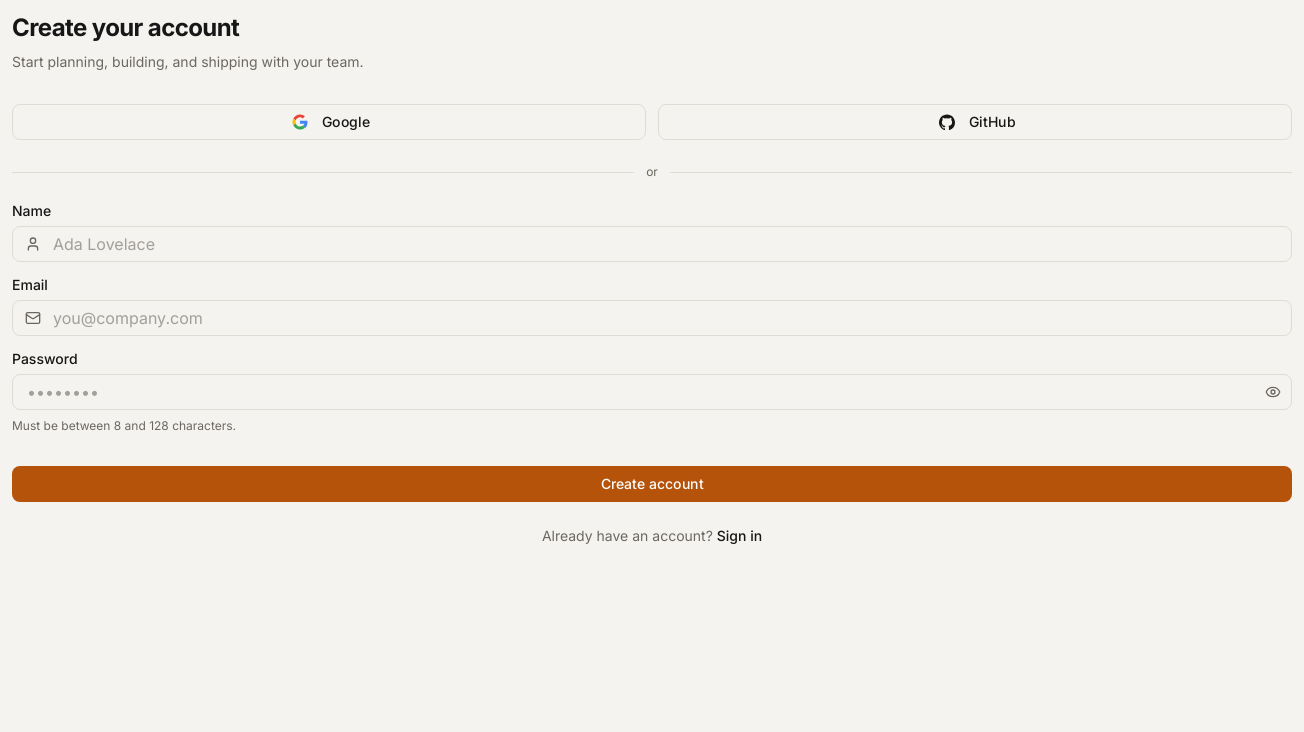
Test case: SignUpForm — user behaviour (isolated) › on success swaps to check-your-email variant with sent email and resend
Type "Ada" into the field labelled "Name" at point(652, 244), box [13, 227, 1291, 261]
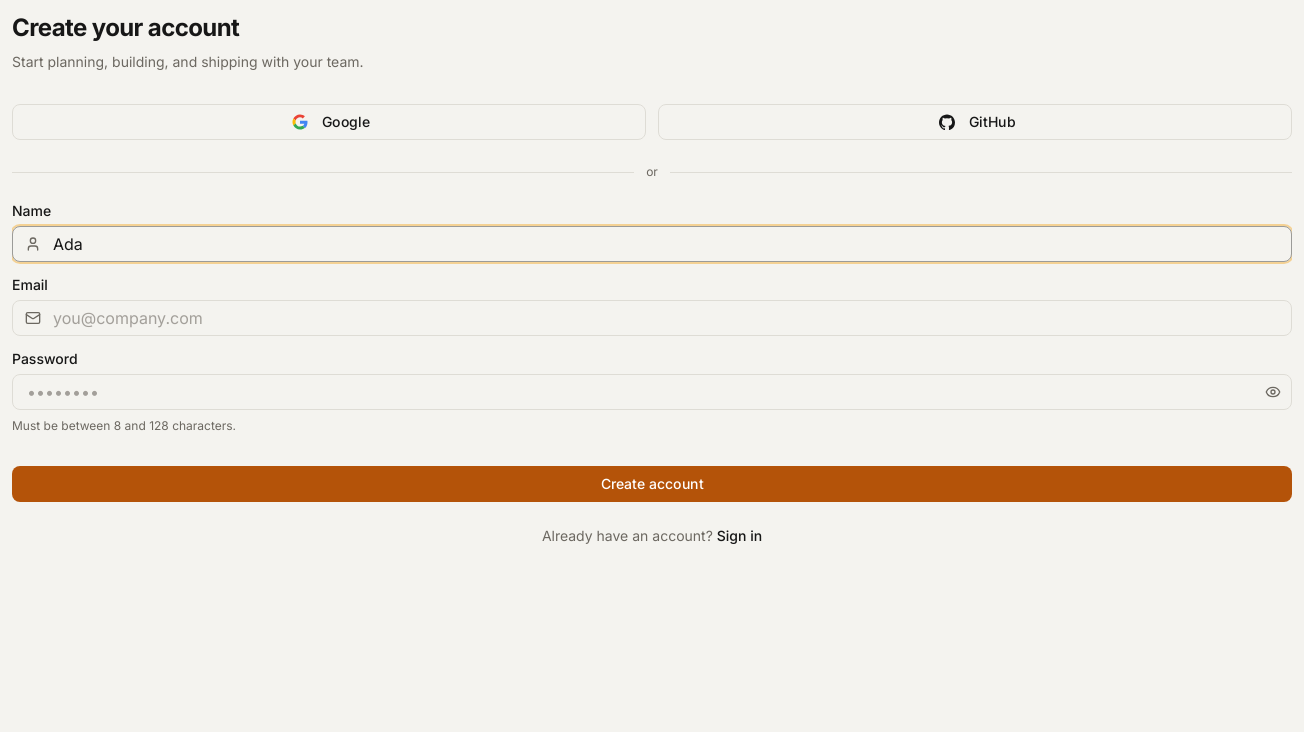
Type "ada@example.com" into the field labelled "Email" at point(652, 318), box [13, 301, 1291, 335]
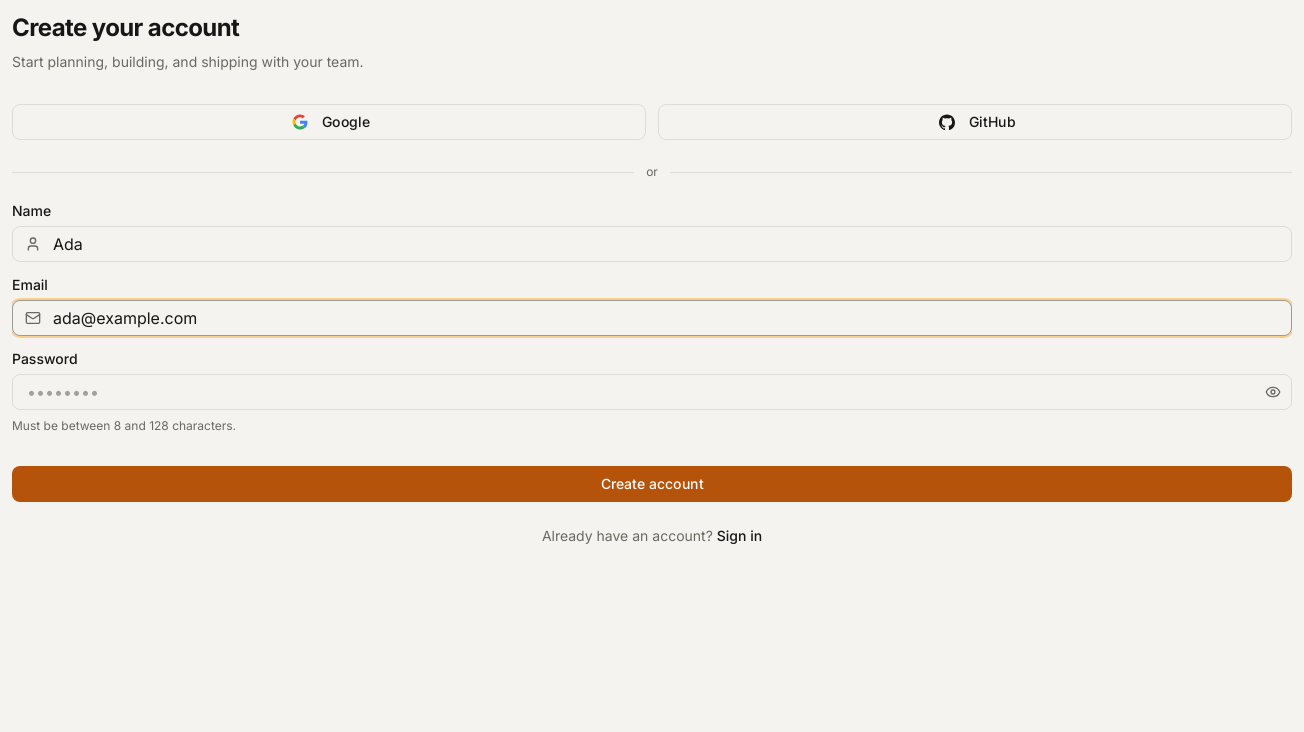
Type "sup3r-secret-pass" into the password field labelled "Password" at point(652, 392), box [13, 375, 1291, 409]
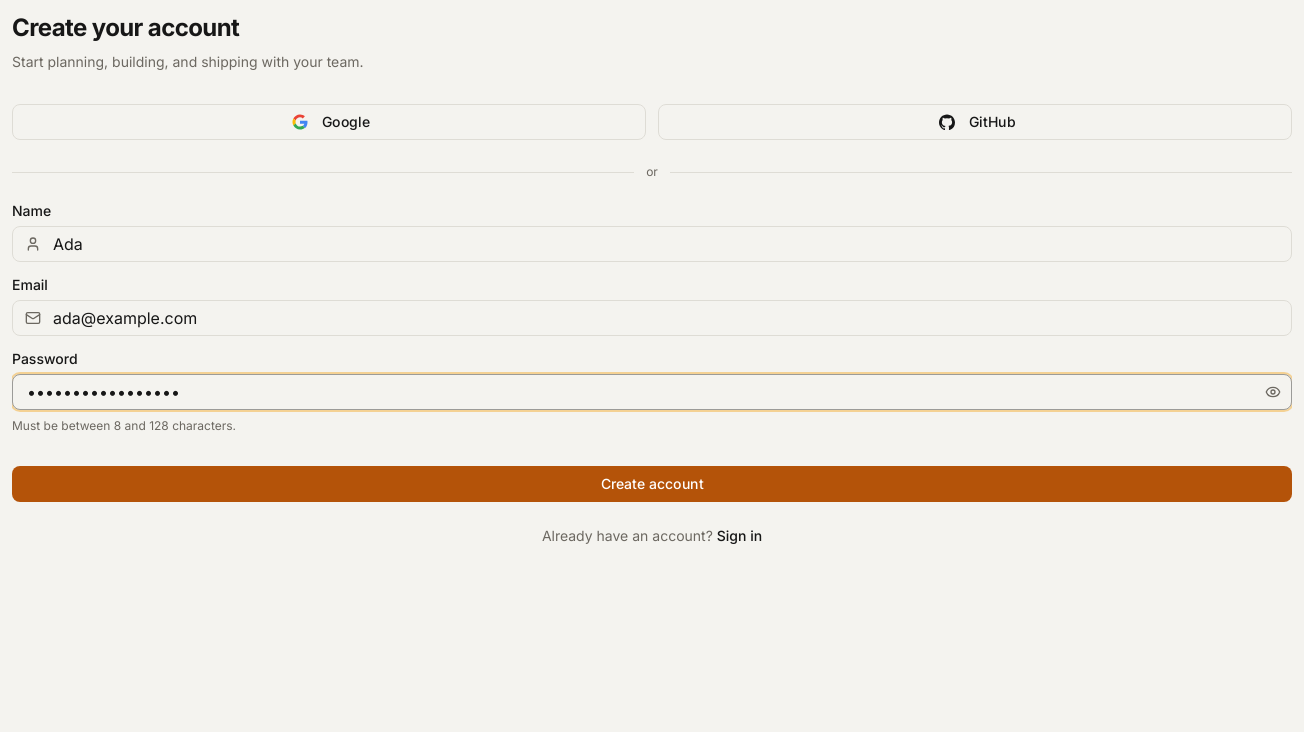
Click the button named "create account" at point(652, 484), box [12, 466, 1292, 502]
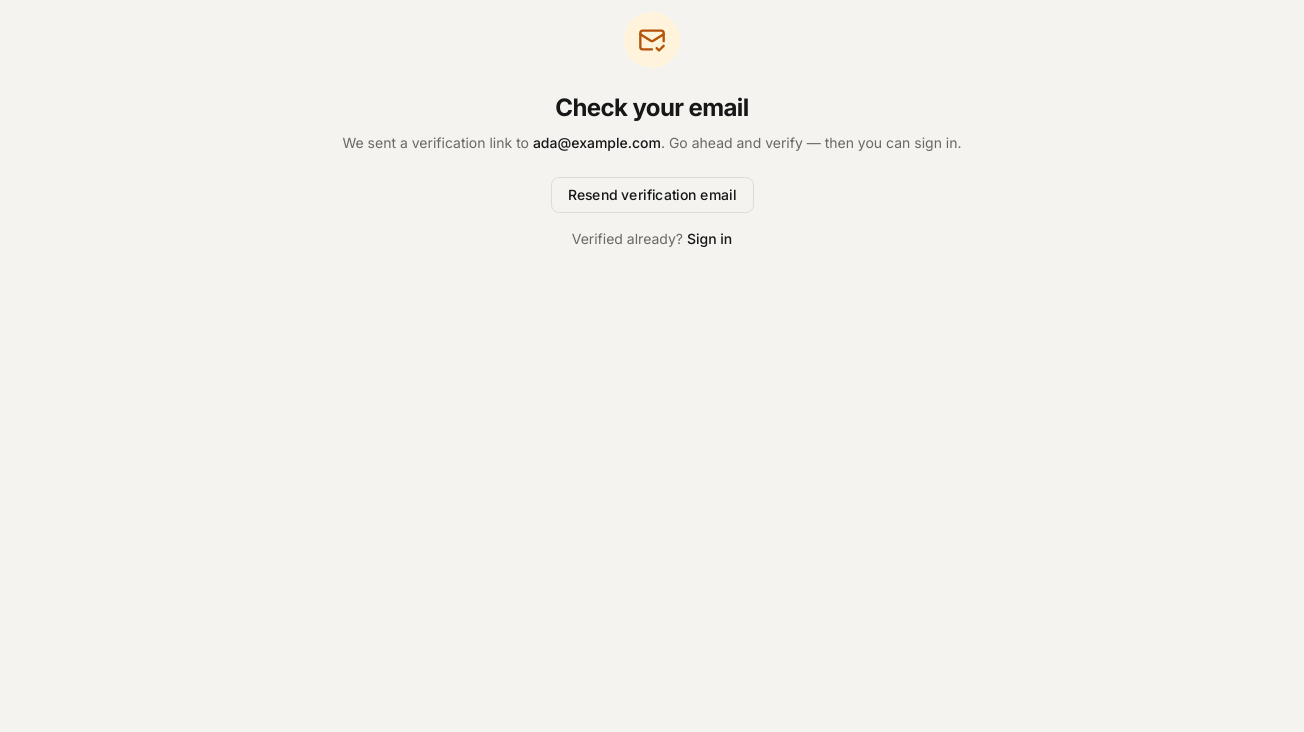
Expected: the heading "Check your email" is shown, [555, 93, 749, 122]
Expected: the text "ada@example.com" is shown, [533, 134, 661, 151]
Expected: the text "We sent a verification link" is shown, [342, 134, 529, 151]
